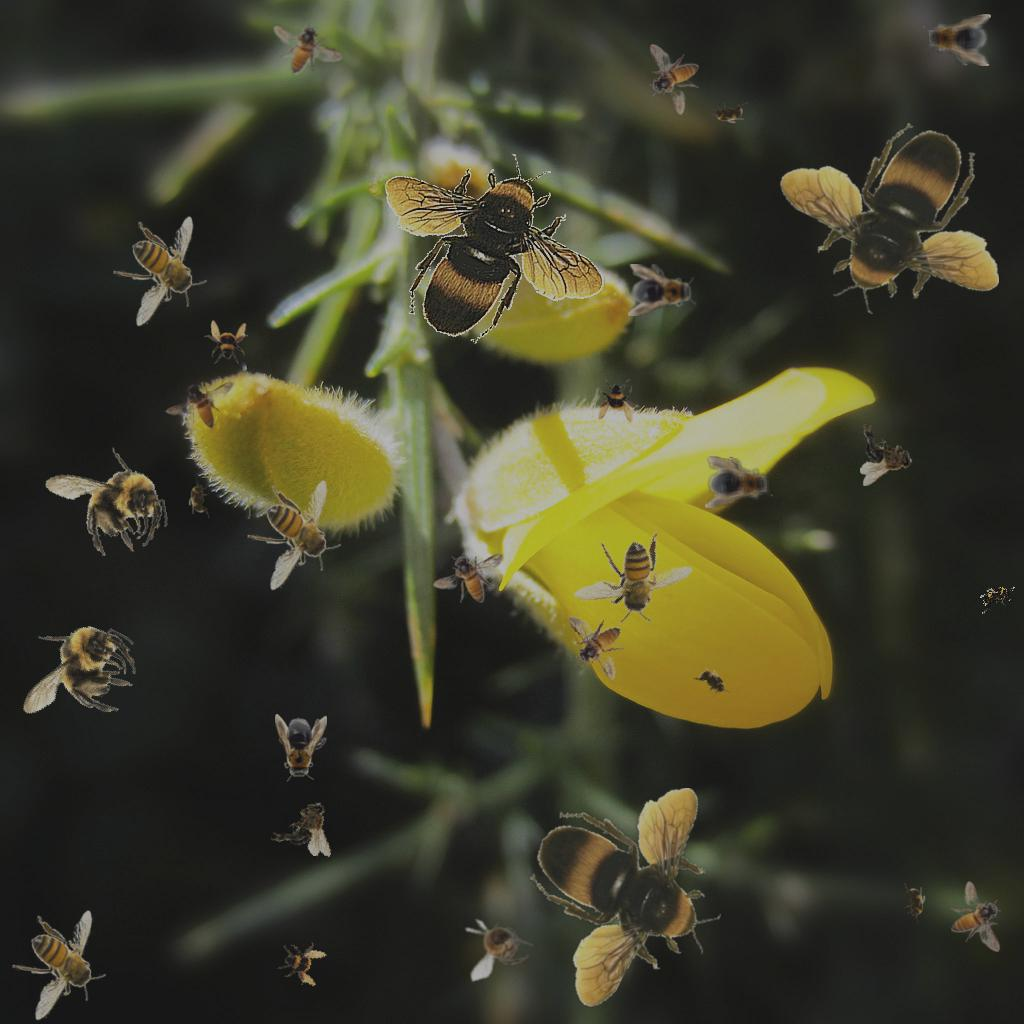Bee: (385, 153, 605, 344), (530, 788, 721, 1008), (779, 123, 999, 314), (3, 599, 152, 752), (557, 507, 704, 651), (40, 439, 173, 566), (113, 216, 207, 327), (12, 910, 106, 1021), (247, 480, 341, 591), (260, 4, 346, 91), (455, 905, 540, 983), (269, 791, 344, 861), (567, 606, 631, 687), (164, 380, 235, 430), (649, 44, 699, 115), (433, 553, 504, 603), (951, 881, 1001, 952), (923, 14, 991, 66), (275, 714, 327, 782), (628, 264, 696, 316), (705, 456, 773, 508), (860, 424, 913, 486), (275, 935, 329, 989), (690, 660, 736, 704), (204, 320, 248, 364), (596, 379, 640, 423), (974, 579, 1020, 615), (904, 883, 926, 923), (188, 478, 210, 518), (708, 102, 748, 124)
